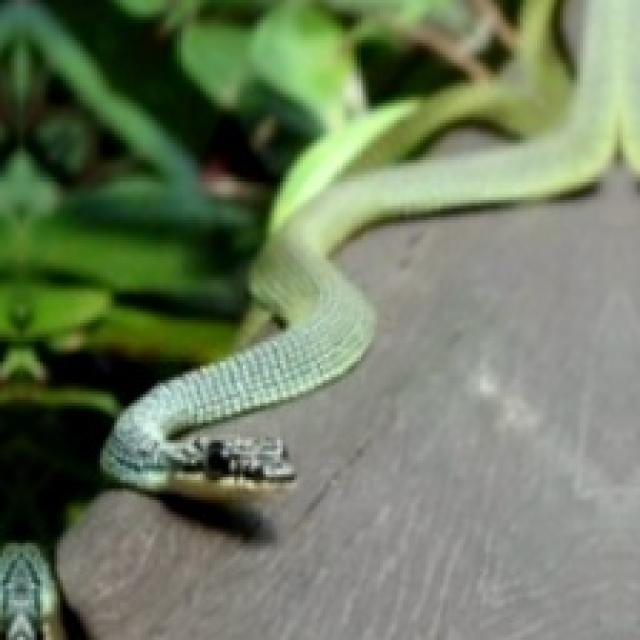paradise tree snake: (0, 0, 637, 637), (103, 0, 637, 489)
